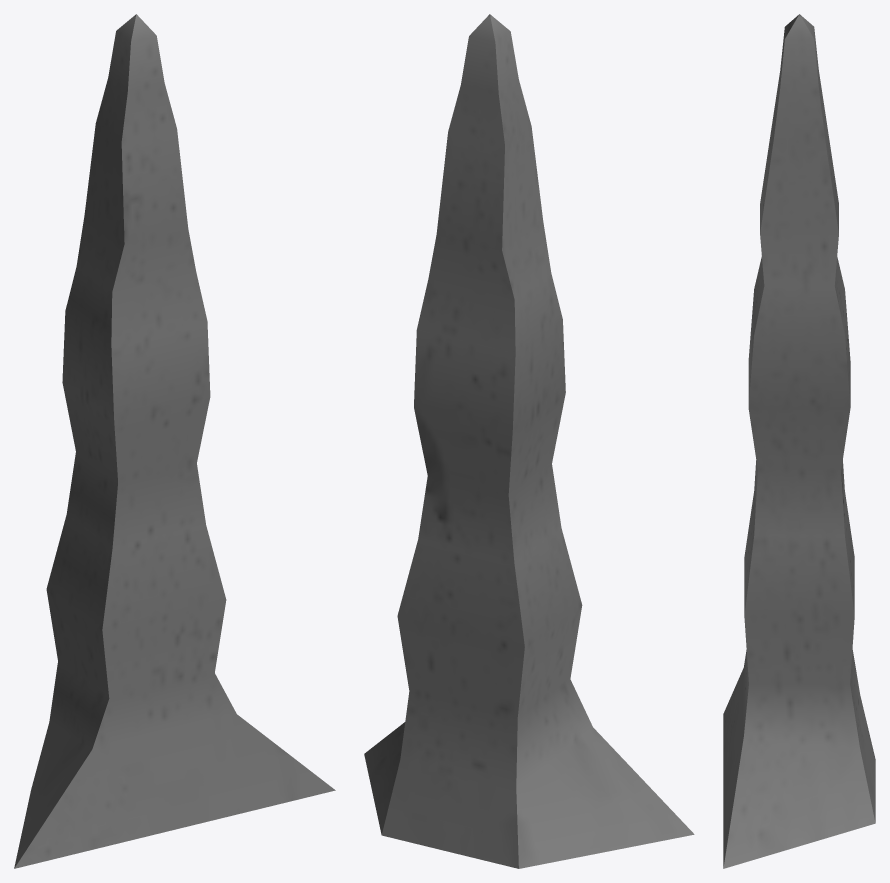
File: Estataatatatatattat3.fbx
The picture shows the model from 3 angles, left to right: view 1: azimuth 30°, elevation 25°; view 2: azimuth 150°, elevation 25°; view 3: azimuth 270°, elevation 25°; orthographic projection. The views are drawn at different scales.
Visible parts, largest first — view 1: Cube.001; view 2: Cube.001; view 3: Cube.001.
Boxes of the visible parts, x1,y1,x2,y2 form: Cube.001: (14,14,335,868); Cube.001: (364,14,694,868); Cube.001: (723,14,875,868).
Bounding box in the file's own units: 54.65 × 128 × 22.66.
1 material, 1 textured.
